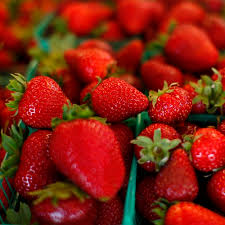Fresa: (46, 112, 130, 205), (13, 73, 81, 132), (87, 74, 150, 125), (150, 146, 201, 205), (132, 121, 186, 174), (144, 82, 195, 129)
